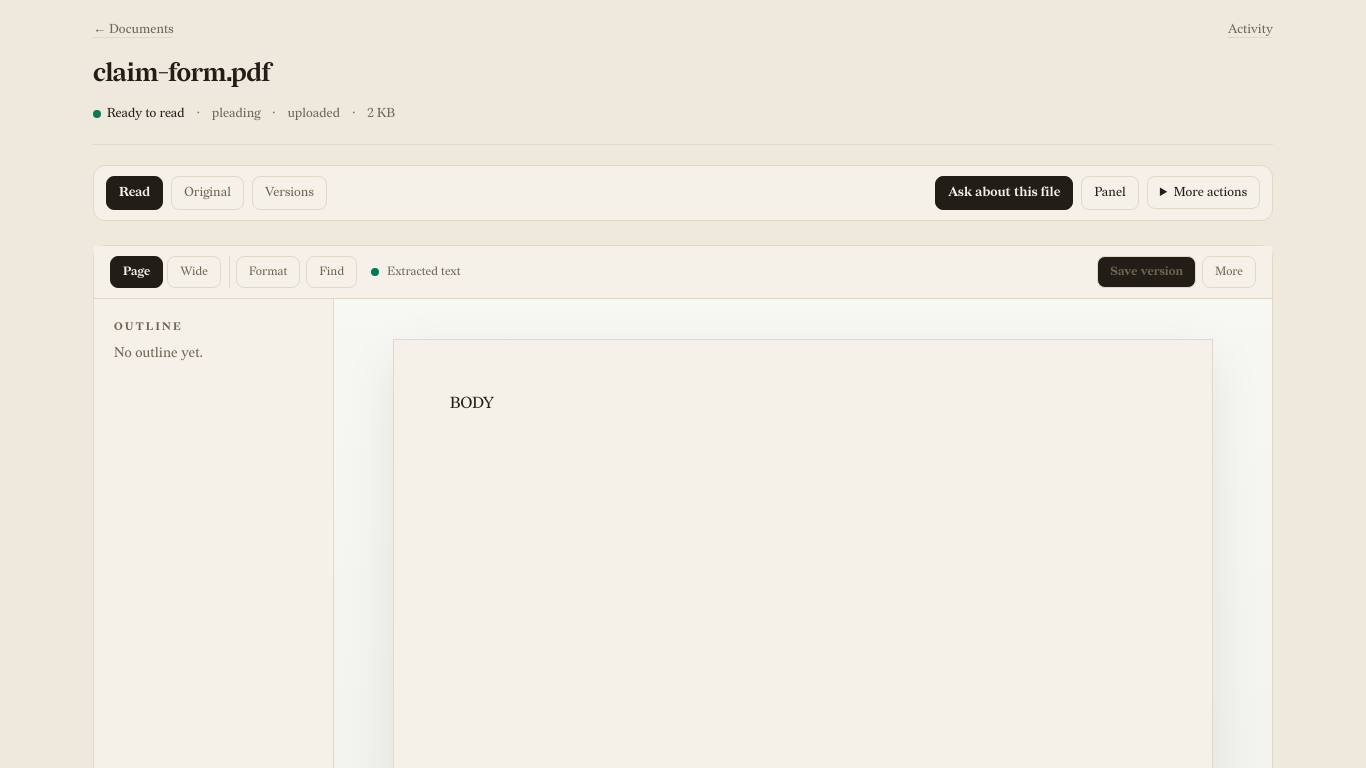
it: DocumentDetail — skills › keeps redline tools and history visible on the document workspace
Expected: the heading "claim-form.pdf" is shown, x1=93 y1=58 x2=270 y2=88
What coordinates should you click on to do the following:
click the button "Versions"
I would click on:
 (289, 193)
Its box is x1=252 y1=176 x2=327 y2=210.
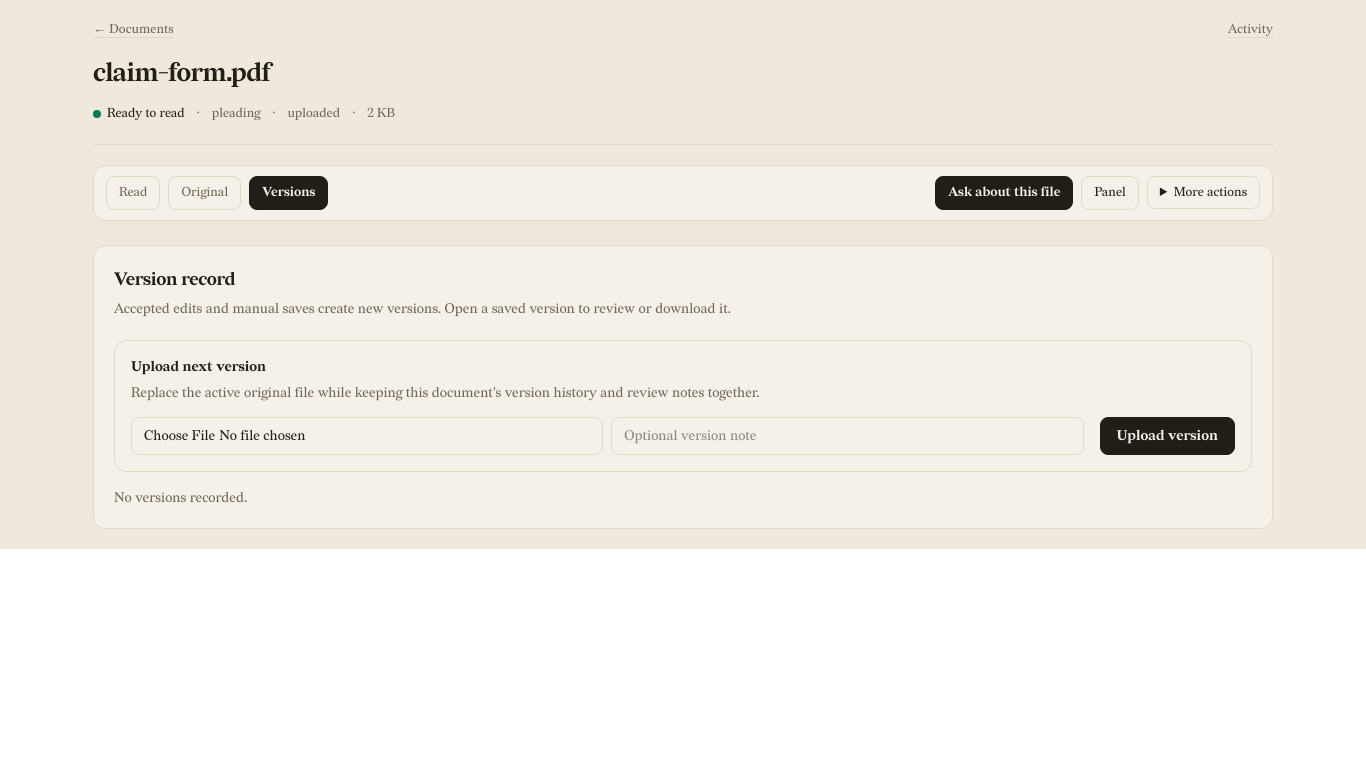
Result: the element with test id "document-history-workspace" is shown at x1=93 y1=245 x2=1273 y2=529
Result: the heading "Version record" is shown at x1=114 y1=269 x2=235 y2=290
